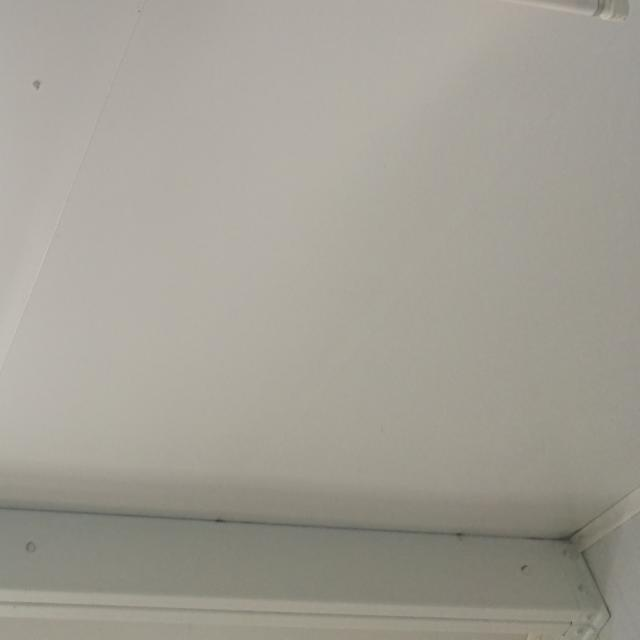fluorescent tube: (0, 0, 640, 104)
